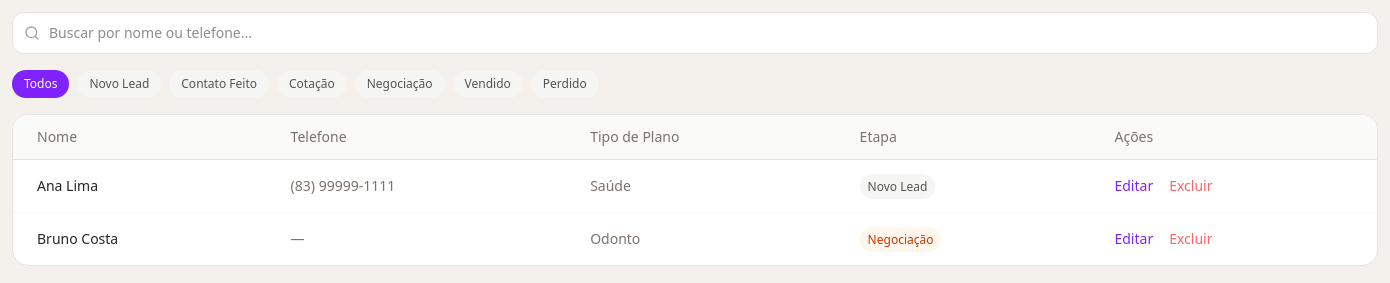
Scenario: LeadTable › filters by name search
Type "Ana" into the field with placeholder "Buscar por nome ou telefone...".
click(695, 33); type("Ana")  # box [12,12,1378,54]
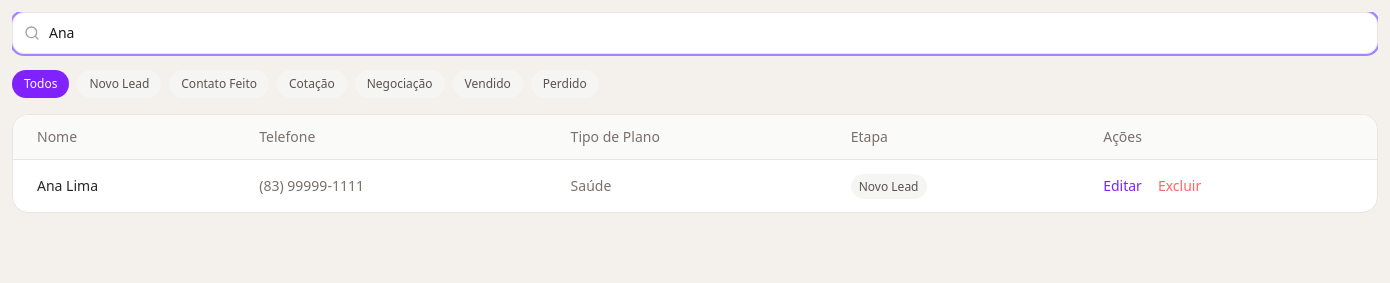
expect the text "Ana Lima" is shown: met, box [37,176,98,195]
expect the text "Bruno Costa" is gone: met
